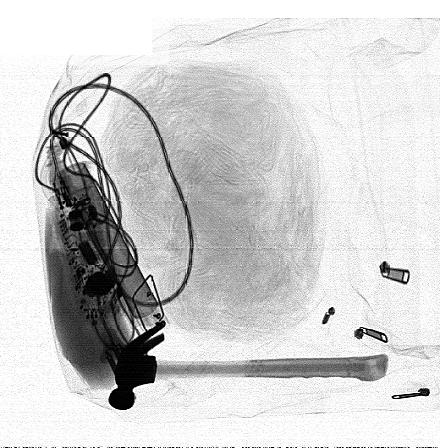Hammer: (108, 322, 390, 411)
